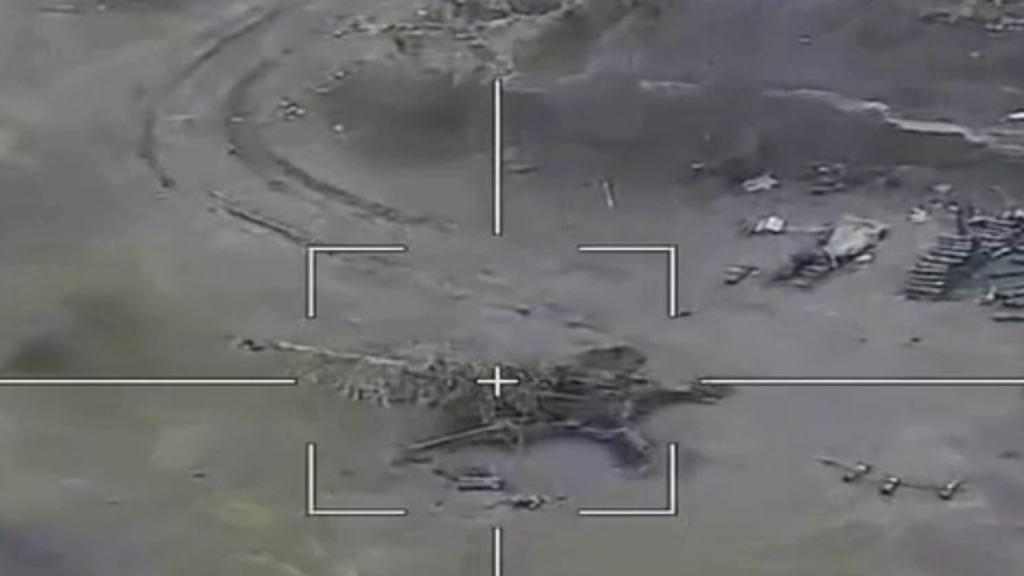ART: (390, 348, 664, 466)
